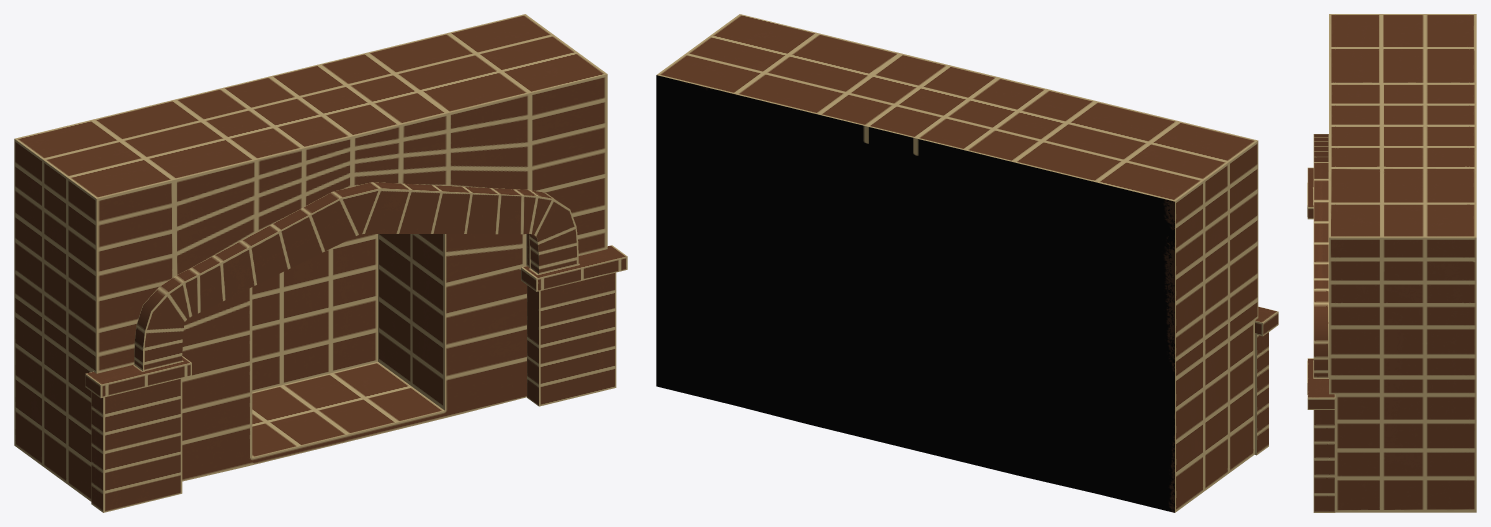
File: FirePlace.fbx
3 renders of one model, left to right at view 1: azimuth 30°, elevation 25°; view 2: azimuth 150°, elevation 25°; view 3: azimuth 270°, elevation 25°, orthographic. The views are drawn at different scales.
Visible parts, largest first — view 1: FirePlace; view 2: FirePlace; view 3: FirePlace.
Boxes of the visible parts, x1=… form: FirePlace: x1=14, y1=14, x2=627, y2=512; FirePlace: x1=656, y1=14, x2=1278, y2=512; FirePlace: x1=1307, y1=14, x2=1476, y2=512.
Bounding box in the file's own units: 2.77 × 1.54 × 0.8573.
